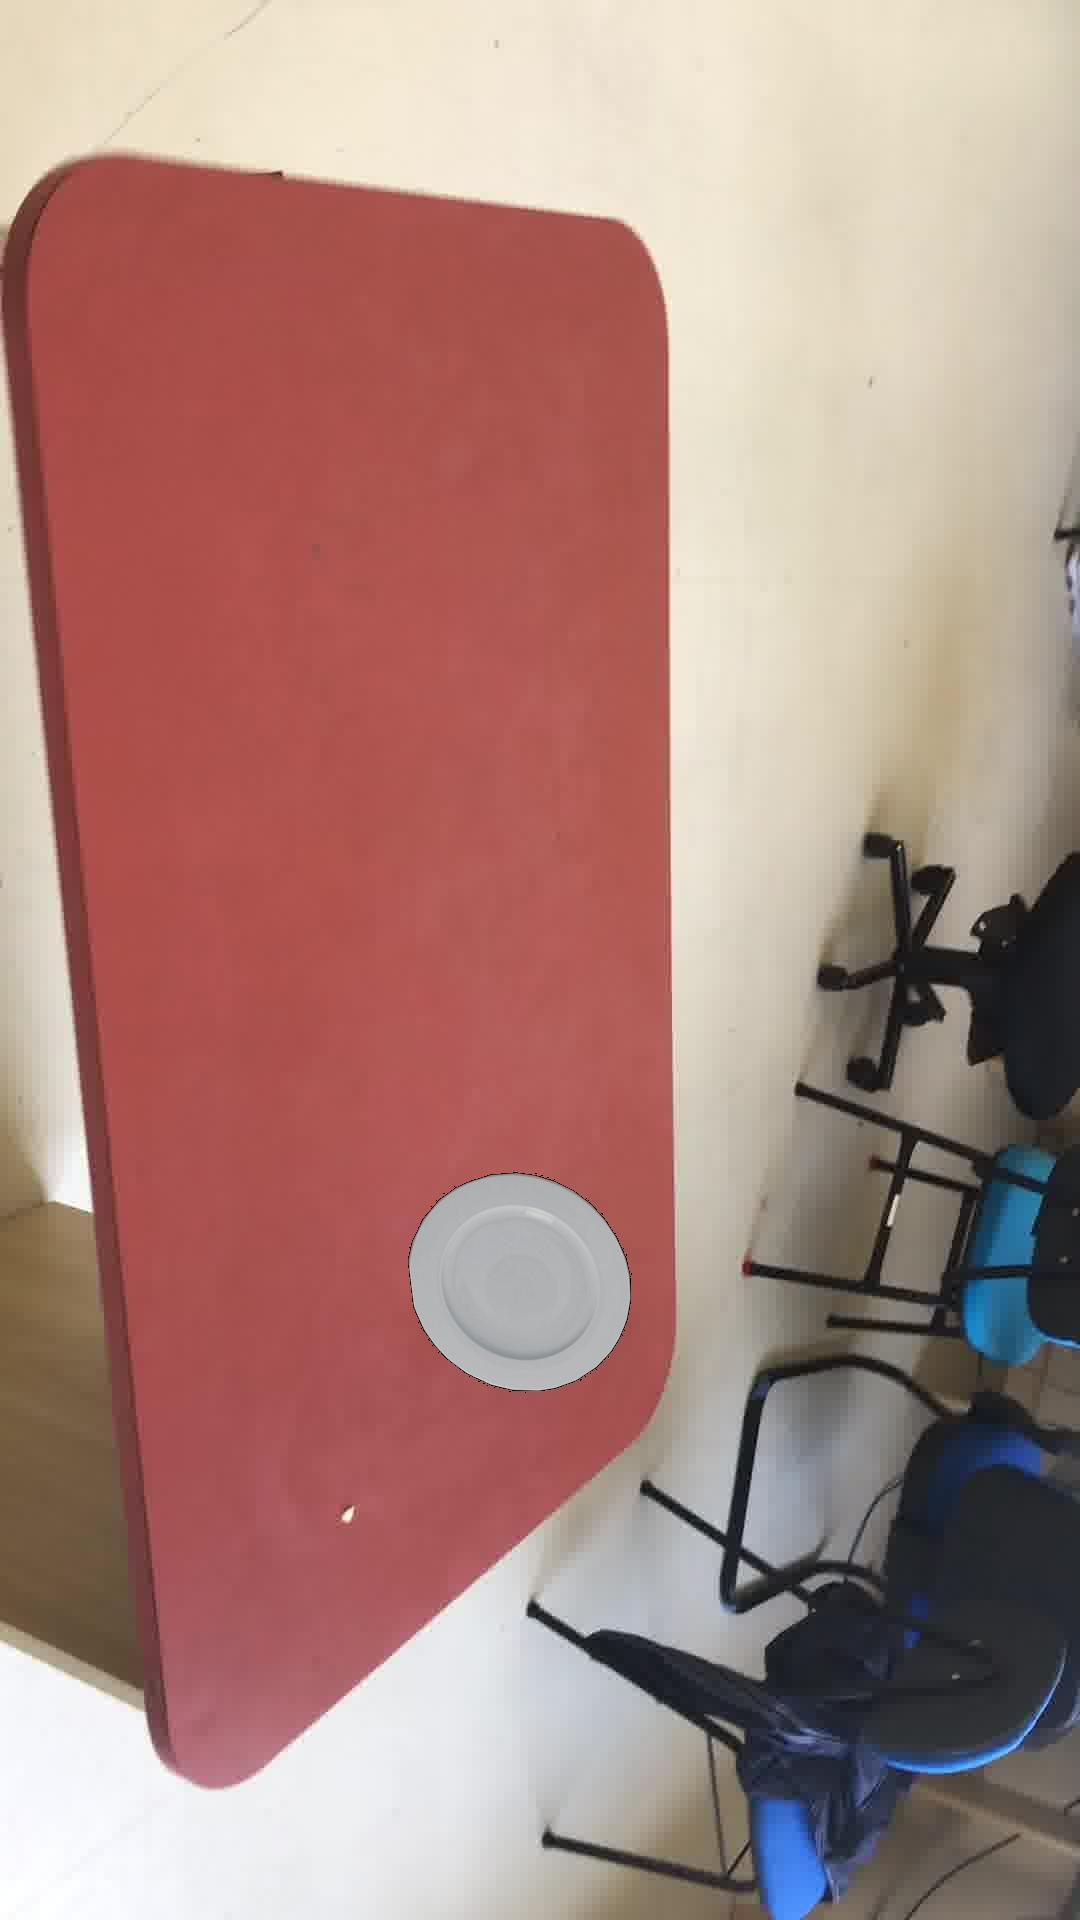plate: (406, 1171, 629, 1390)
